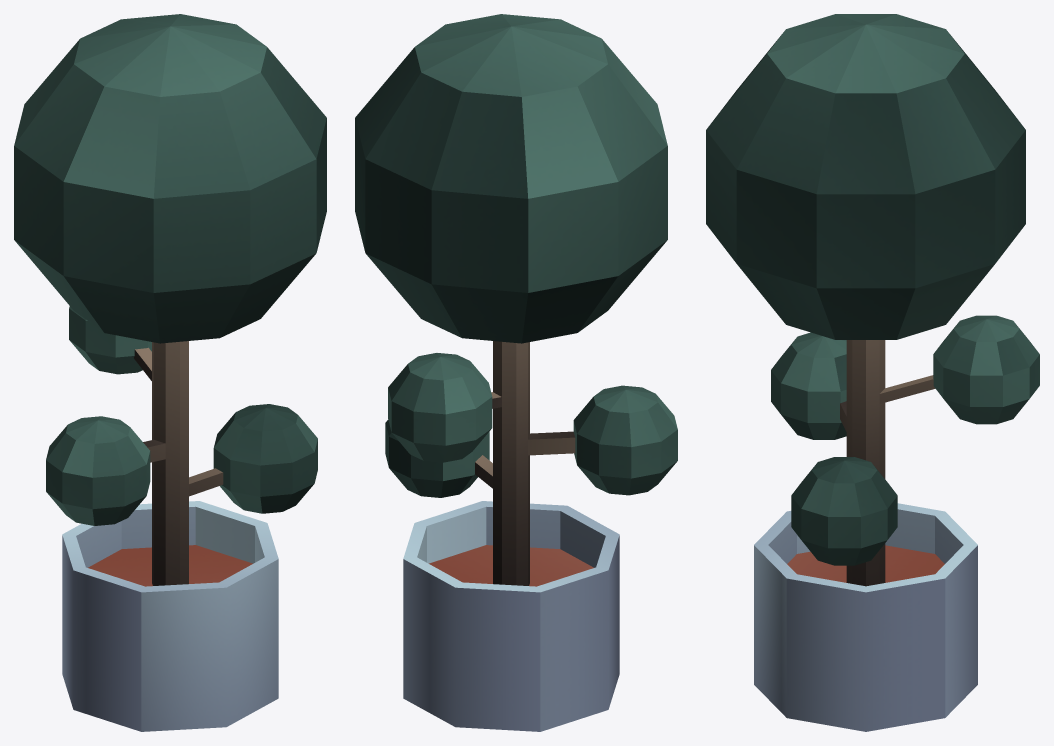
The model's file is bush.fbx.
3 renders of one model, left to right at view 1: azimuth 30°, elevation 25°; view 2: azimuth 150°, elevation 25°; view 3: azimuth 270°, elevation 25°, orthographic.
Visible parts, largest first — view 1: Sphere001, Cylinder001, Sphere003, Sphere004, Sphere002; view 2: Sphere001, Cylinder001, Sphere002, Sphere003, Sphere004; view 3: Sphere001, Cylinder001, Sphere002, Sphere004, Sphere003.
Boxes of the visible parts, <box> form: Sphere001: <box>14,14,326,343</box>; Cylinder001: <box>62,341,278,731</box>; Sphere003: <box>46,416,150,525</box>; Sphere004: <box>213,404,317,513</box>; Sphere002: <box>69,306,151,374</box>; Sphere001: <box>355,14,667,343</box>; Cylinder001: <box>403,341,619,731</box>; Sphere002: <box>388,353,492,462</box>; Sphere003: <box>573,385,677,495</box>; Sphere004: <box>385,420,489,497</box>; Sphere001: <box>706,14,1025,339</box>; Cylinder001: <box>754,340,977,731</box>; Sphere002: <box>933,315,1039,424</box>; Sphere004: <box>791,457,897,565</box>; Sphere003: <box>771,332,846,439</box>.
Bounding box in the file's own units: 554 × 1324 × 596.
